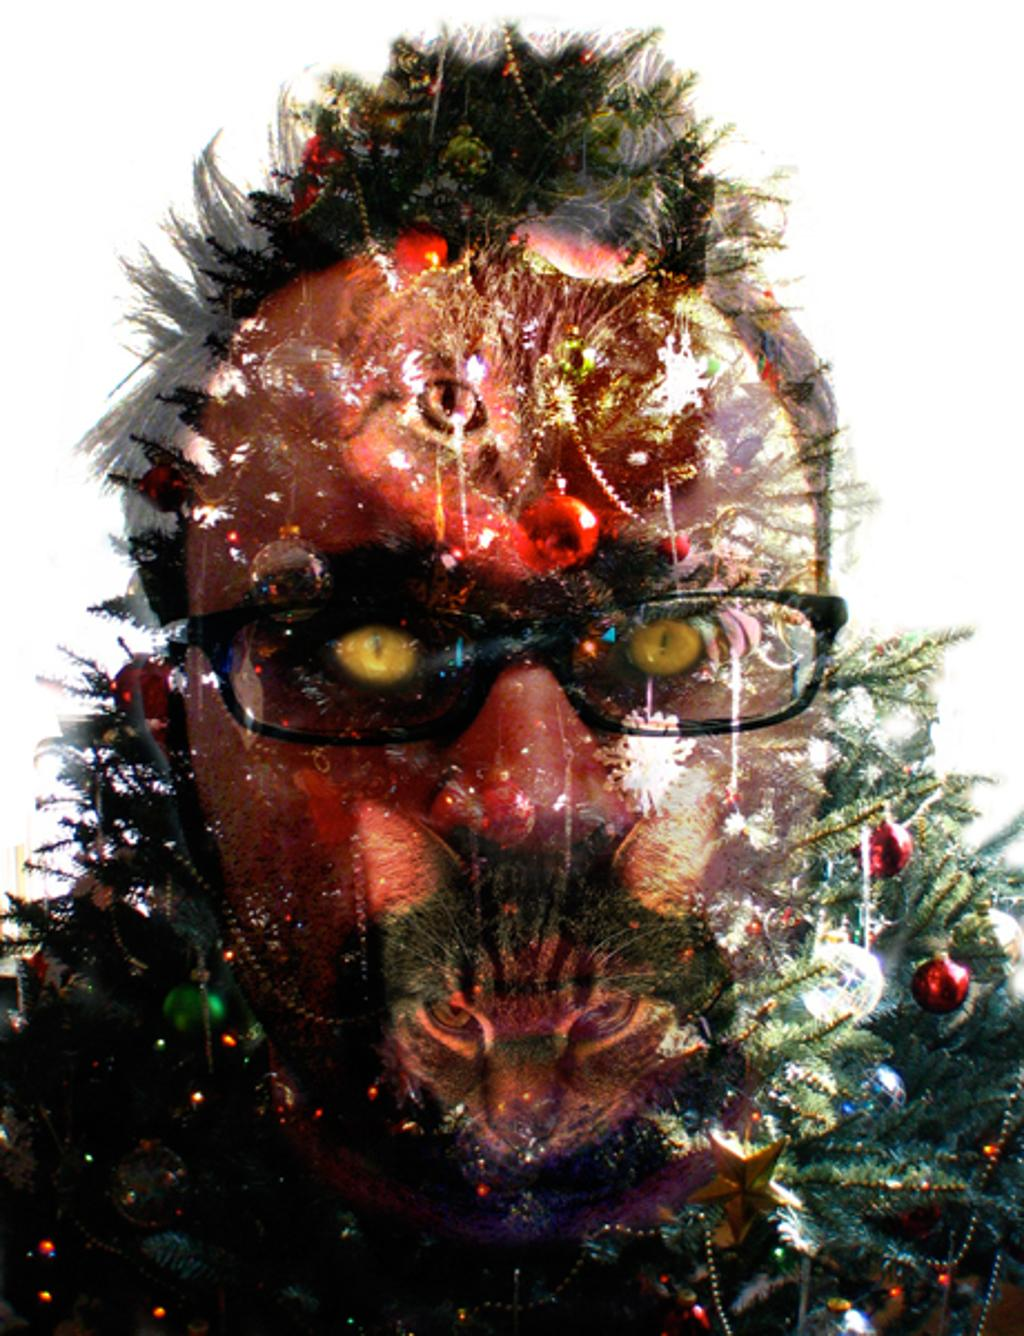face: (185, 232, 823, 1167)
